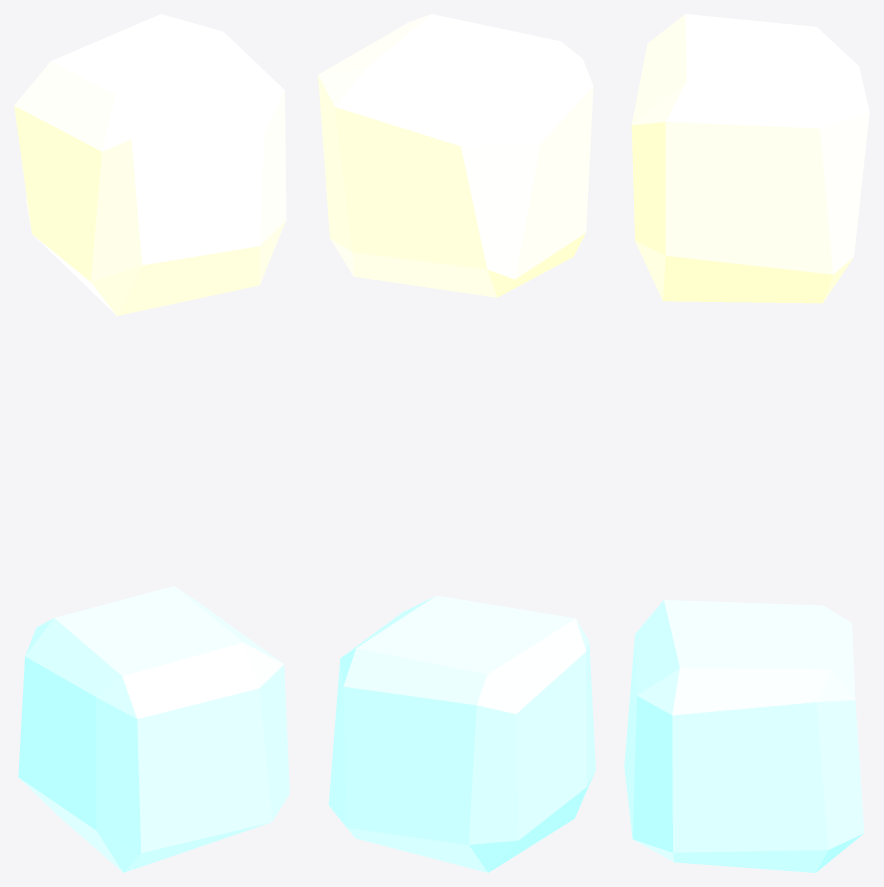
File: FX_PlasmaBeam.fbx
3 views of the same model, side by side, from view 1: azimuth 30°, elevation 25°; view 2: azimuth 150°, elevation 25°; view 3: azimuth 270°, elevation 25° (orthographic). The views are drawn at different scales.
Visible parts, largest first — view 1: FX_Plasma_Tip, FX_Plasma_Chunk; view 2: FX_Plasma_Tip, FX_Plasma_Chunk; view 3: FX_Plasma_Tip, FX_Plasma_Chunk.
Boxes of the visible parts, x1,y1,x2,y2 form: FX_Plasma_Tip: (14, 14, 286, 315); FX_Plasma_Chunk: (18, 586, 289, 872); FX_Plasma_Tip: (318, 14, 593, 297); FX_Plasma_Chunk: (328, 595, 595, 872); FX_Plasma_Tip: (631, 14, 869, 303); FX_Plasma_Chunk: (624, 600, 864, 872).
Bounding box in the file's own units: 0.1786 × 0.6155 × 0.1728.
